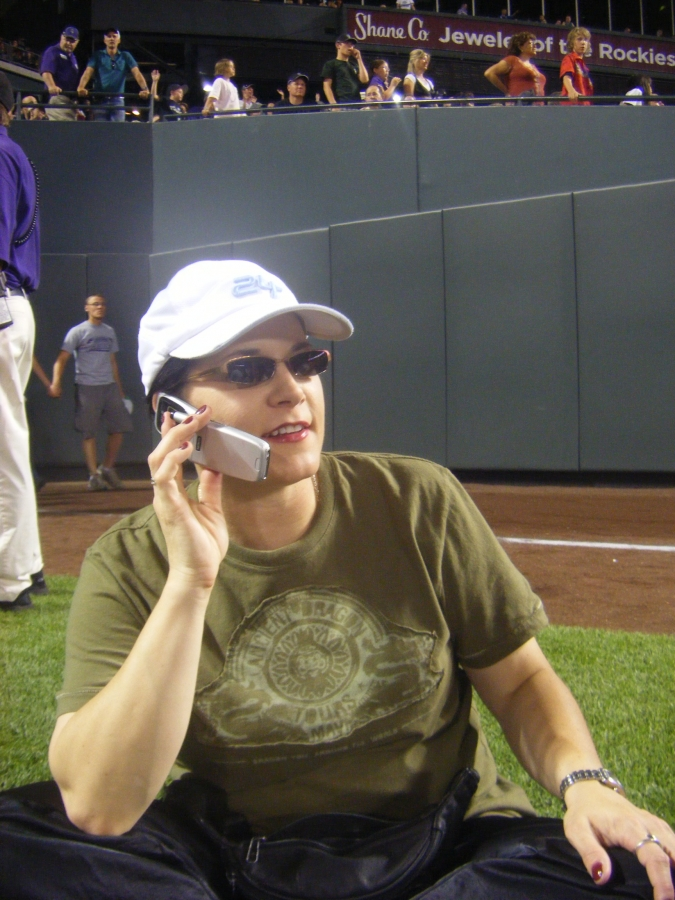phone: (138, 390, 271, 492)
talk: (132, 333, 334, 539)
